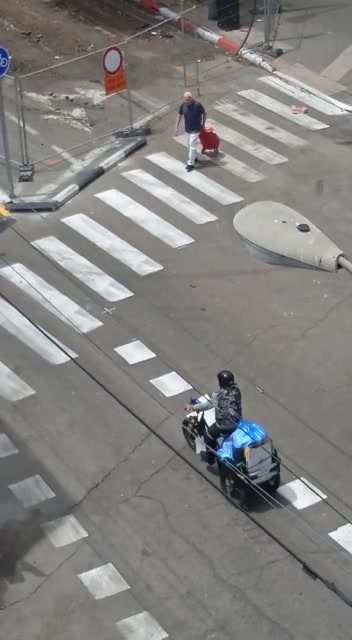crosswalk: (6, 58, 302, 307)
person: (165, 83, 225, 180)
